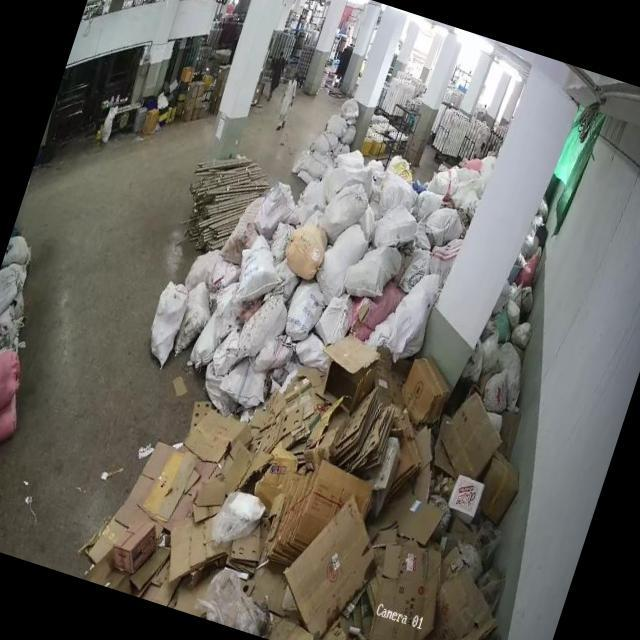person: (270, 68, 305, 136), (261, 46, 292, 104)
